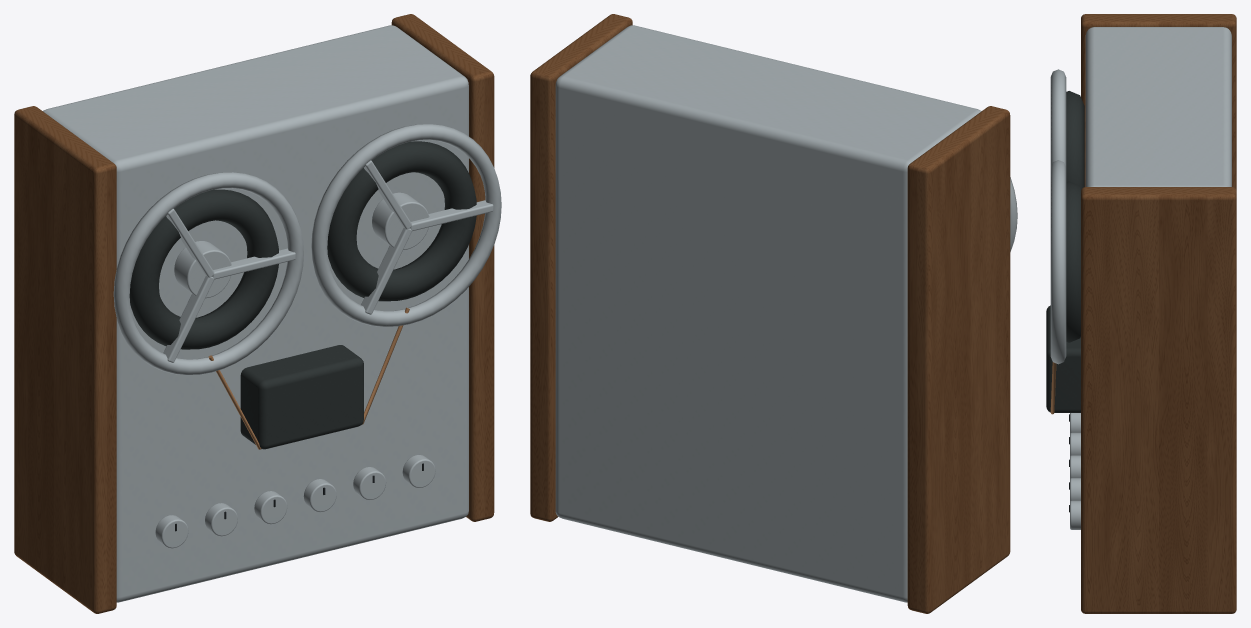
File: reel.gltf
The picture shows the model from 3 angles, left to right: view 1: azimuth 30°, elevation 25°; view 2: azimuth 150°, elevation 25°; view 3: azimuth 270°, elevation 25°; orthographic projection. The views are drawn at different scales.
Parts seen in each view (by area): view 1: Upright recorder chassis, Walnut side cheek, Walnut side cheek.001, Wound magnetic tape.001, Wound magnetic tape, Tape head block, Open reel outer ring.001, Open reel outer ring, Tape reel hub, Tape reel hub.001, Reel spoke.002, Reel spoke.005 (+11 smaller); view 2: Upright recorder chassis, Walnut side cheek, Walnut side cheek.001; view 3: Walnut side cheek.001, Upright recorder chassis, Walnut side cheek, Open reel outer ring.001, Wound magnetic tape.001, Tape head block, Wound magnetic tape, Open reel outer ring, Rotary control.005.
Part boxes in pixels (left/top/right/bottom): Upright recorder chassis: left=43, top=25, right=468, bottom=602; Walnut side cheek: left=14, top=106, right=116, bottom=613; Walnut side cheek.001: left=391, top=14, right=494, bottom=521; Wound magnetic tape.001: left=327, top=141, right=476, bottom=301; Wound magnetic tape: left=129, top=189, right=278, bottom=349; Tape head block: left=240, top=345, right=363, bottom=449; Open reel outer ring.001: left=311, top=124, right=501, bottom=326; Open reel outer ring: left=113, top=172, right=303, bottom=374; Tape reel hub: left=174, top=241, right=231, bottom=298; Tape reel hub.001: left=372, top=192, right=429, bottom=249; Reel spoke.002: left=163, top=276, right=214, bottom=362; Reel spoke.005: left=361, top=228, right=411, bottom=314; Upright recorder chassis: left=555, top=25, right=981, bottom=602; Walnut side cheek: left=907, top=106, right=1010, bottom=613; Walnut side cheek.001: left=530, top=14, right=632, bottom=521; Walnut side cheek.001: left=1081, top=187, right=1236, bottom=613; Upright recorder chassis: left=1085, top=27, right=1231, bottom=186; Walnut side cheek: left=1081, top=14, right=1236, bottom=190; Open reel outer ring.001: left=1050, top=160, right=1066, bottom=364; Wound magnetic tape.001: left=1066, top=181, right=1081, bottom=342; Tape head block: left=1046, top=305, right=1080, bottom=412; Wound magnetic tape: left=1066, top=91, right=1084, bottom=188; Open reel outer ring: left=1050, top=69, right=1066, bottom=167; Rotary control.005: left=1070, top=500, right=1080, bottom=529.
Bounding box in the file's own units: 0.446 × 0.475 × 0.1955.
6 materials, 6 textured.
